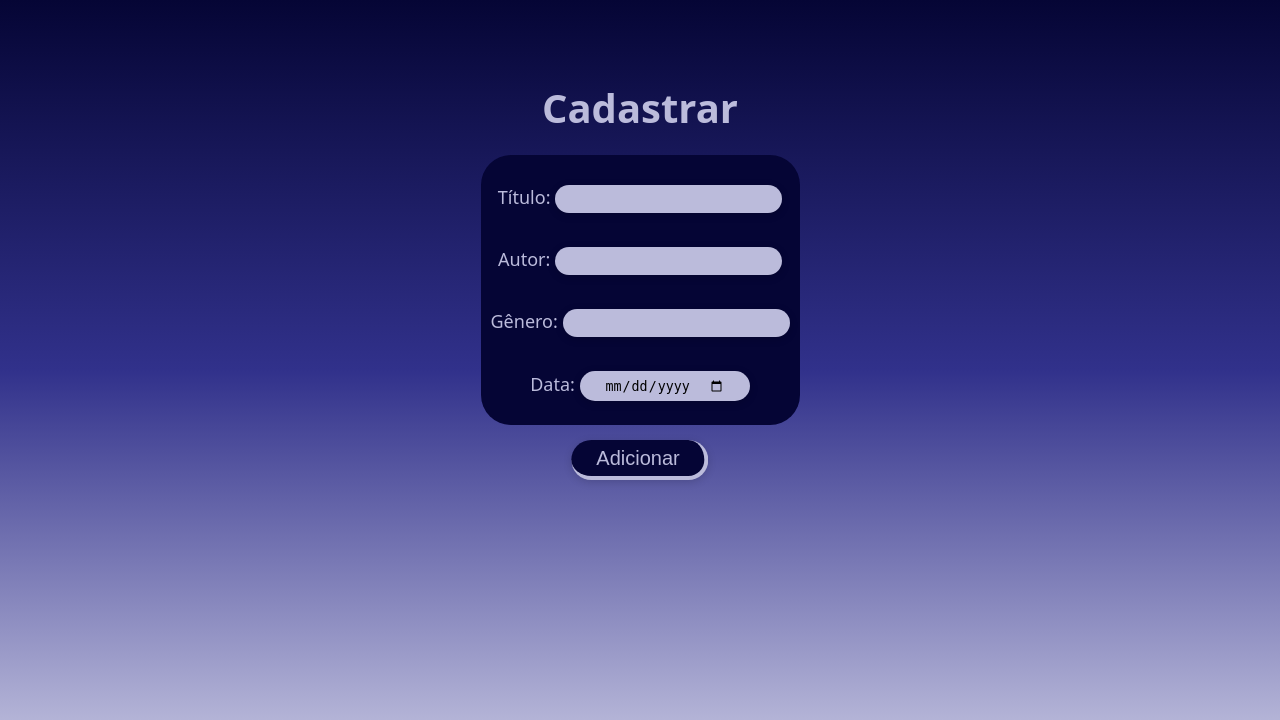
BookForm › adiciona um livro e mostra a mensagem de sucesso
Type "Dom Casmurro" into the field labelled "Título:". click: (669, 199)
box: [555,185,782,213]
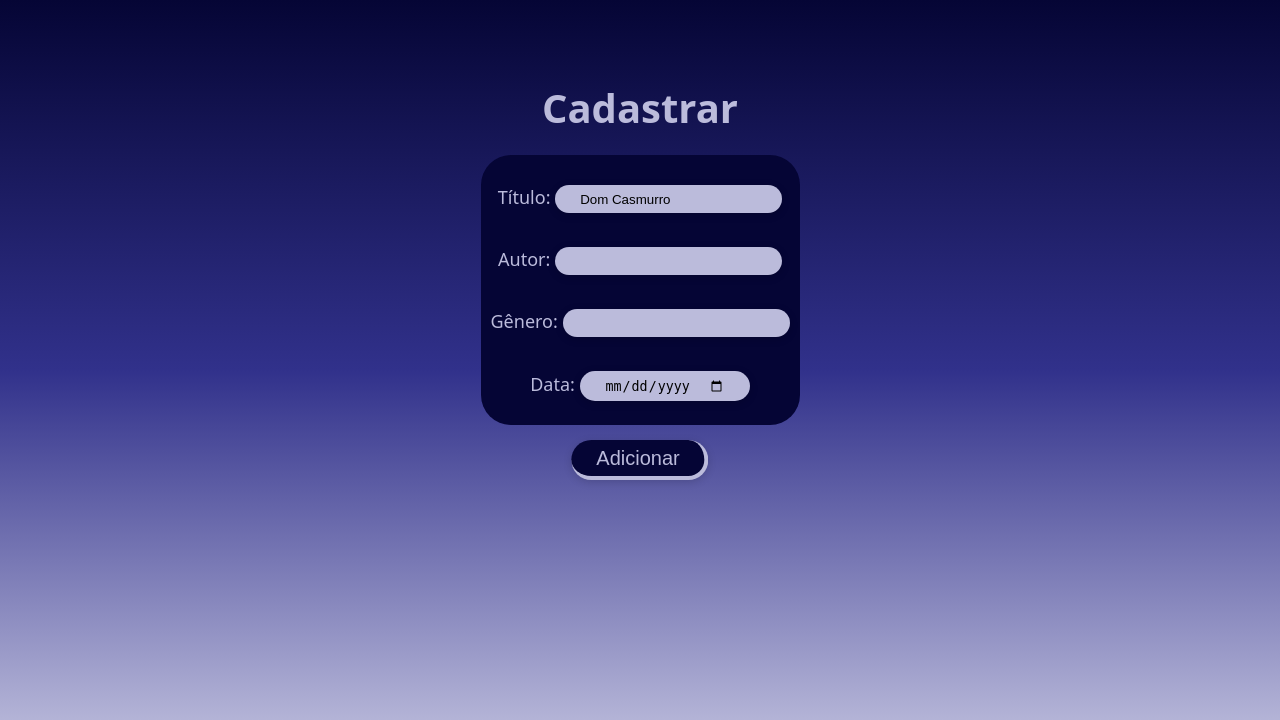
Type "Machado de Assis" into the field labelled "Autor:". click: (668, 261)
box: [555,247,782,275]
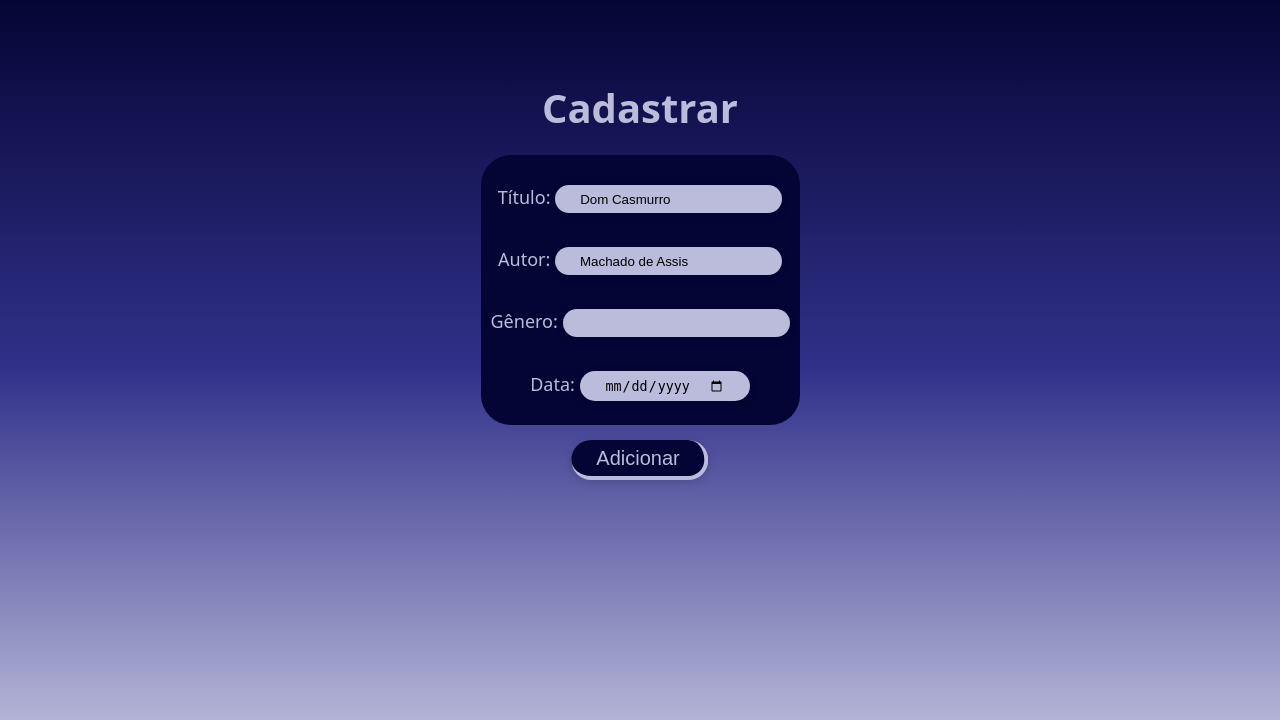
Type "Romance" into the field labelled "Gênero:". click: (676, 323)
box: [562,309,790,337]
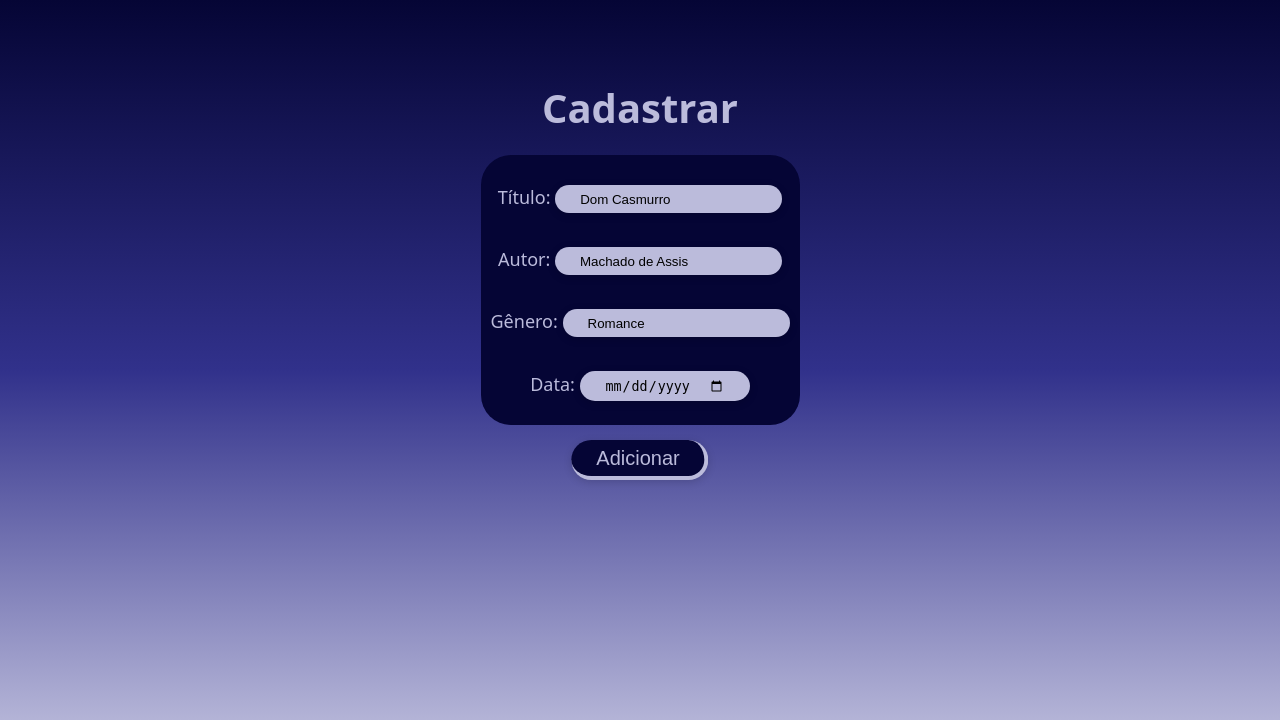
Type "1899-01-01" into the date field labelled "Data:". click: (665, 386)
box: [580,371,750,401]
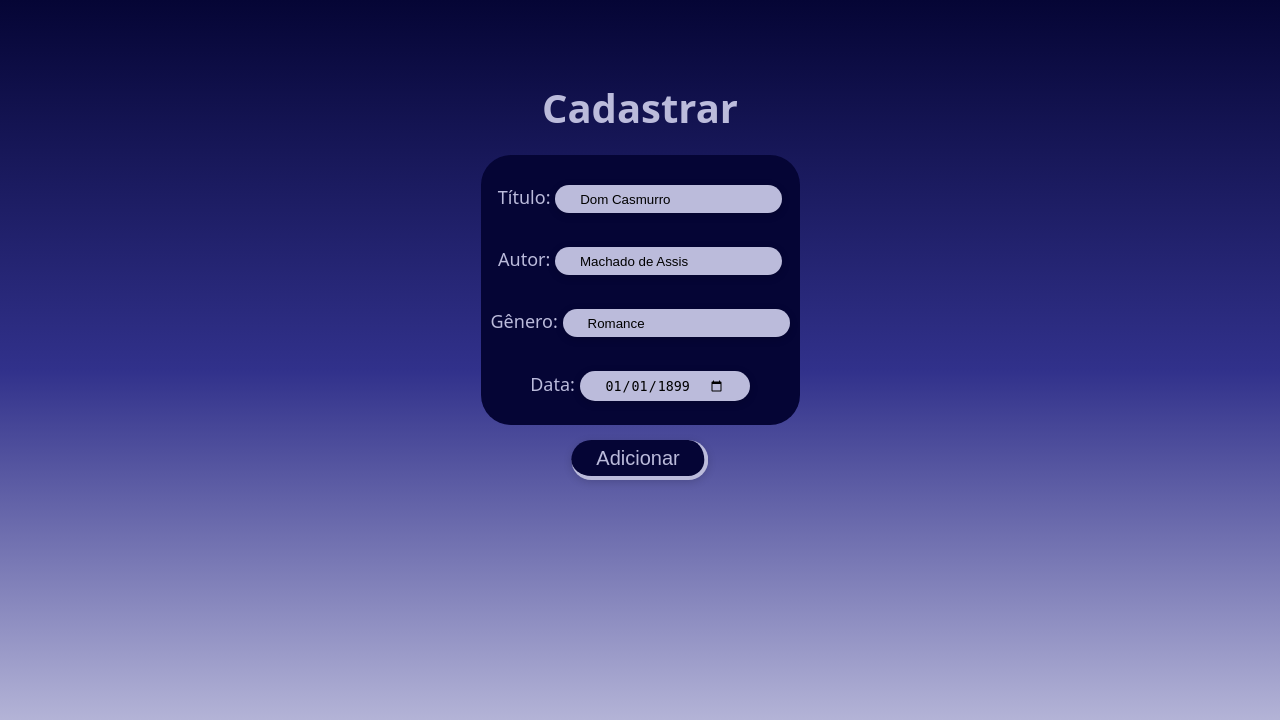
Click the button "Adicionar". click: (640, 460)
box: [571,440,709,480]
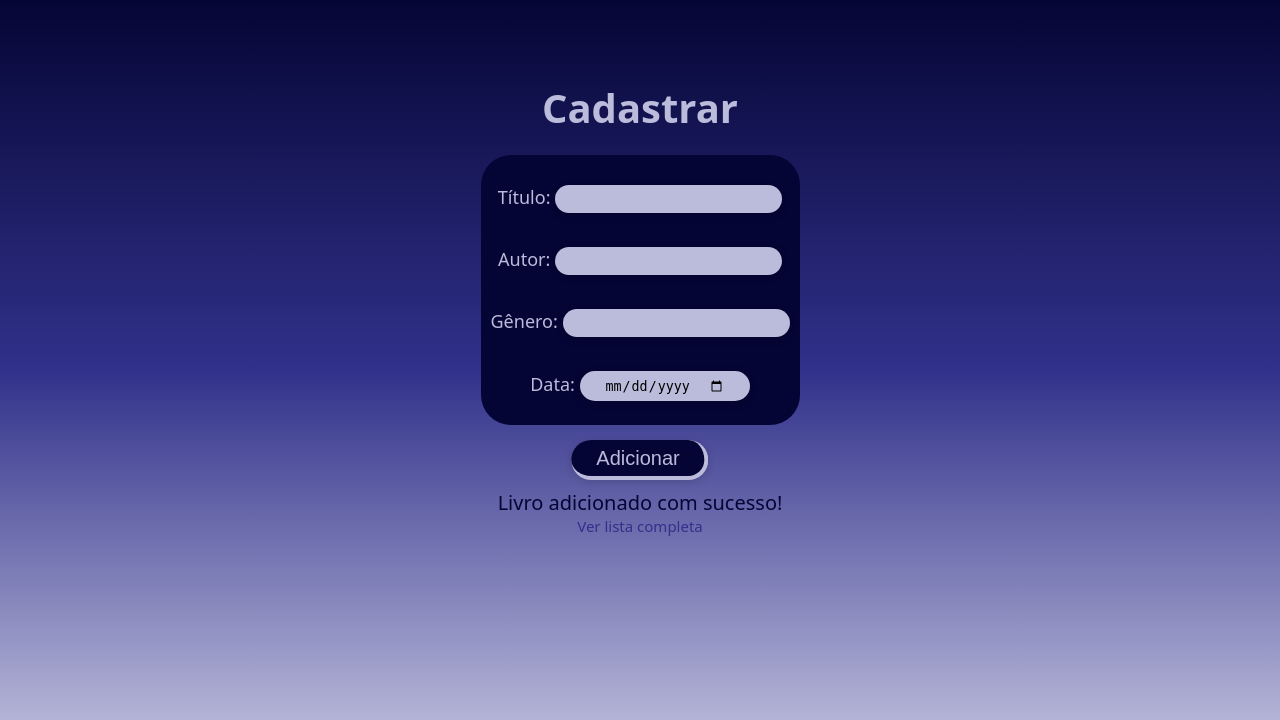
Result: the text "Livro adicionado com sucesso!" is shown at [498,489,782,516]
Result: the link "Ver lista completa" is shown at [577,516,703,536]
